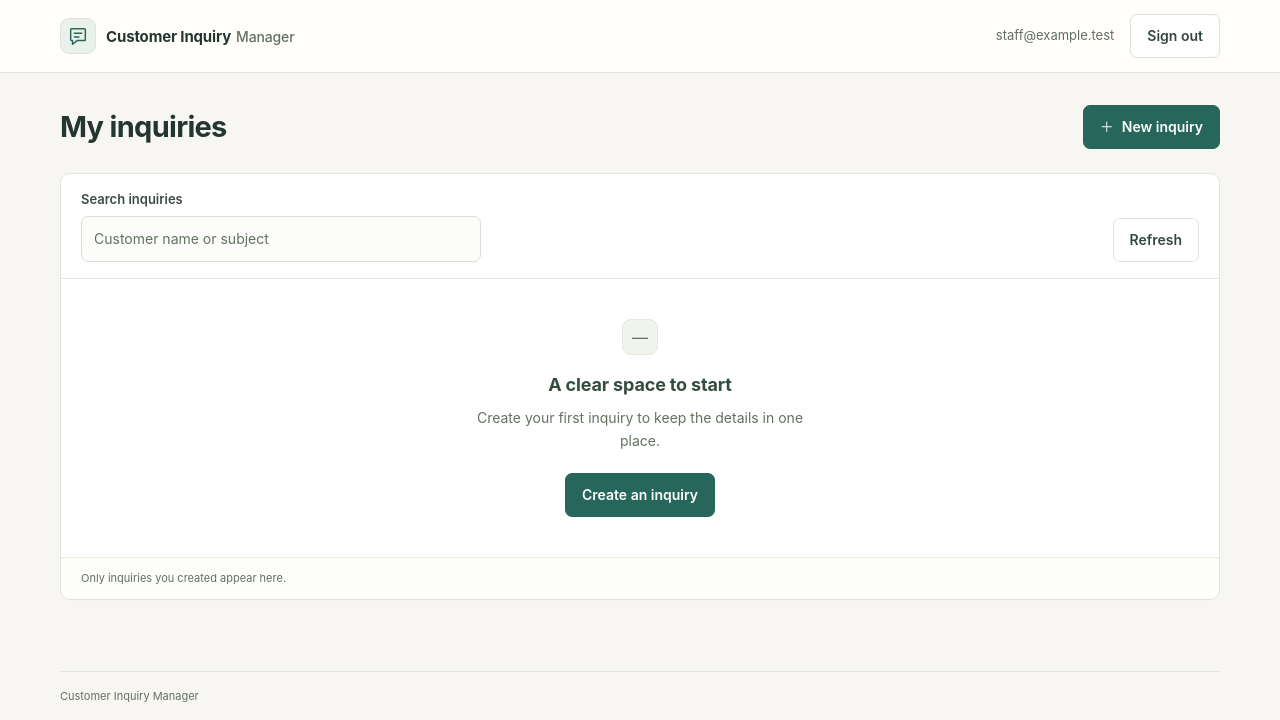
Scenario: late search responses cannot replace the current search results
In the search field labelled "Search inquiries": (281, 238) [81,216,481,262], type "old"
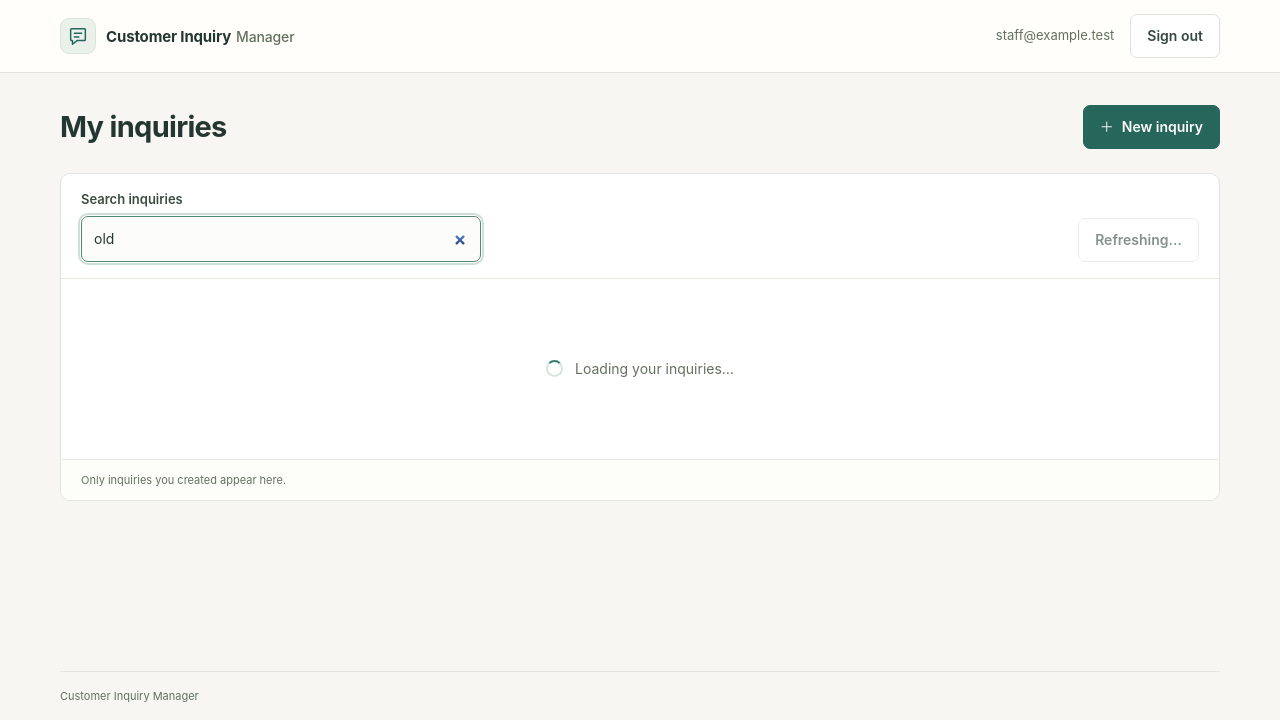
Replace the text in the search field labelled "Search inquiries" with "new": (281, 238) [81,216,481,262]
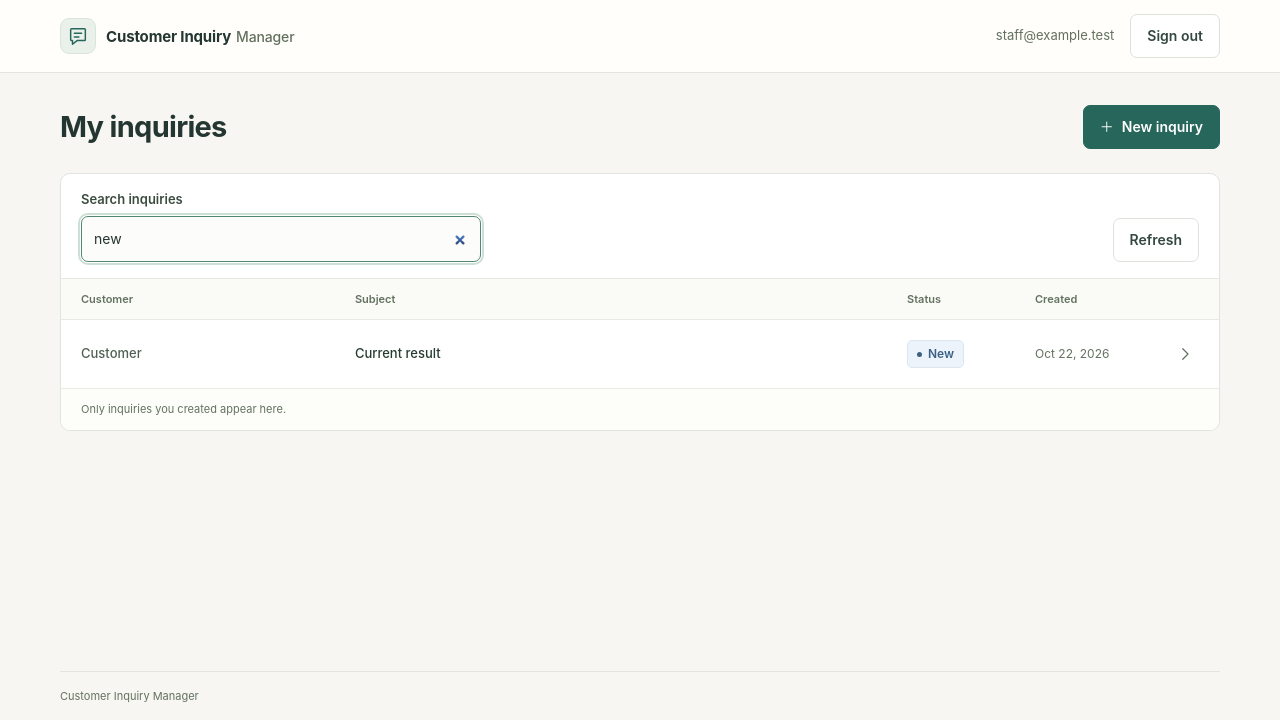
Result: the link "Current result" is shown at [355,345,441,361]
